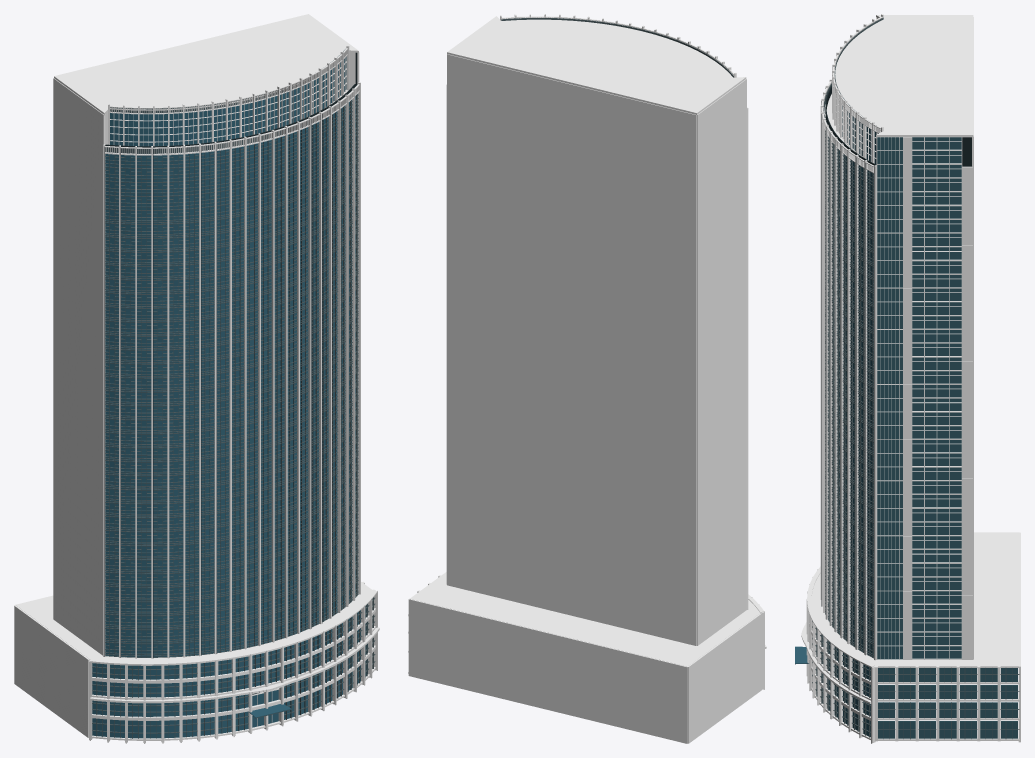
Rendered from detail.glb.
The picture shows the model from 3 angles, left to right: view 1: azimuth 30°, elevation 25°; view 2: azimuth 150°, elevation 25°; view 3: azimuth 270°, elevation 25°; orthographic projection. The views are drawn at different scales.
Parts seen in each view (by area): view 1: Front_individual_thick_glazing_closed, Front_minor_vertical_and_horizontal_mullions, Front_continuous_silver_primary_ribs, CLOSURE_HOLD_unseen_back_and_opposite_side, CLOSURE_HOLD_main_roof_and_crown_annulus, Podium_purple_stone_curved_piers_and_spandrels, Podium_continuous_curved_projection_and_coping, Front_glazing_rebate_and_dark_gaskets, NOT_INTERIOR_structural_support_plates; view 2: CLOSURE_HOLD_unseen_back_and_opposite_side, CLOSURE_HOLD_main_roof_and_crown_annulus, Podium_continuous_curved_projection_and_coping, Front_continuous_silver_primary_ribs; view 3: Podium_side_back_observed_long_window_groups, Front_continuous_silver_primary_ribs, Front_minor_vertical_and_horizontal_mullions, CLOSURE_HOLD_main_roof_and_crown_annulus, Front_individual_thick_glazing_closed, Podium_continuous_curved_projection_and_coping, Podium_purple_stone_curved_piers_and_spandrels, Front_glazing_rebate_and_dark_gaskets, CLOSURE_HOLD_unseen_back_and_opposite_side, NOT_INTERIOR_structural_support_plates.
Part boxes in pixels (left/top/right/bottom): Front_individual_thick_glazing_closed: left=92, top=57, right=367, bottom=738; Front_minor_vertical_and_horizontal_mullions: left=92, top=49, right=375, bottom=738; Front_continuous_silver_primary_ribs: left=103, top=45, right=360, bottom=726; CLOSURE_HOLD_unseen_back_and_opposite_side: left=14, top=78, right=105, bottom=737; CLOSURE_HOLD_main_roof_and_crown_annulus: left=54, top=14, right=358, bottom=155; Podium_purple_stone_curved_piers_and_spandrels: left=89, top=581, right=377, bottom=743; Podium_continuous_curved_projection_and_coping: left=16, top=582, right=379, bottom=703; Front_glazing_rebate_and_dark_gaskets: left=104, top=114, right=322, bottom=658; NOT_INTERIOR_structural_support_plates: left=105, top=52, right=357, bottom=694; CLOSURE_HOLD_unseen_back_and_opposite_side: left=408, top=54, right=761, bottom=743; CLOSURE_HOLD_main_roof_and_crown_annulus: left=447, top=16, right=746, bottom=114; Podium_continuous_curved_projection_and_coping: left=410, top=572, right=766, bottom=666; Front_continuous_silver_primary_ribs: left=446, top=14, right=748, bottom=609; Podium_side_back_observed_long_window_groups: left=877, top=137, right=1017, bottom=738; Front_continuous_silver_primary_ribs: left=820, top=14, right=972, bottom=660; Front_minor_vertical_and_horizontal_mullions: left=795, top=17, right=1019, bottom=739; CLOSURE_HOLD_main_roof_and_crown_annulus: left=824, top=15, right=973, bottom=173; Front_individual_thick_glazing_closed: left=795, top=106, right=878, bottom=737; Podium_continuous_curved_projection_and_coping: left=801, top=533, right=1019, bottom=703; Podium_purple_stone_curved_piers_and_spandrels: left=806, top=569, right=1019, bottom=743; Front_glazing_rebate_and_dark_gaskets: left=821, top=88, right=865, bottom=654; CLOSURE_HOLD_unseen_back_and_opposite_side: left=876, top=17, right=1020, bottom=742; NOT_INTERIOR_structural_support_plates: left=825, top=86, right=971, bottom=166.
Bounding box in the file's own units: 48.51 × 100 × 33.86.
